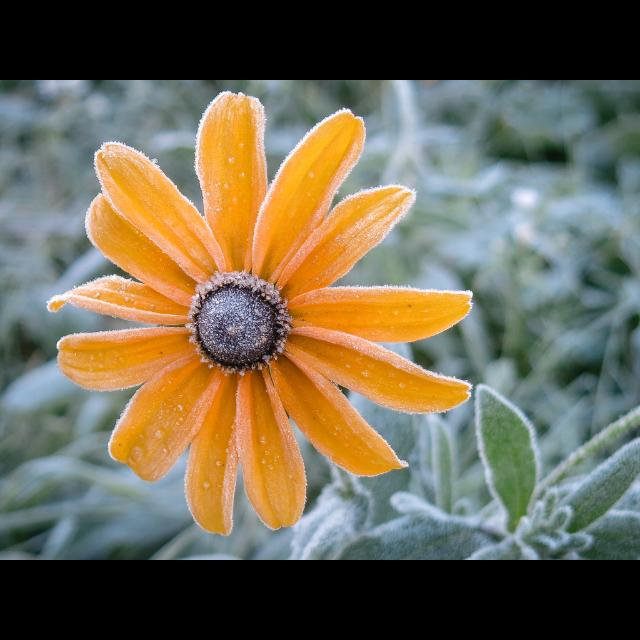Flower: (29, 94, 488, 528)
